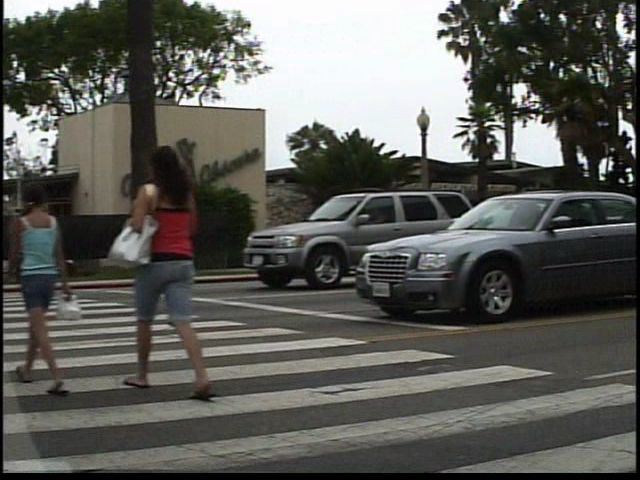person: (125, 141, 232, 409), (18, 177, 92, 402)
